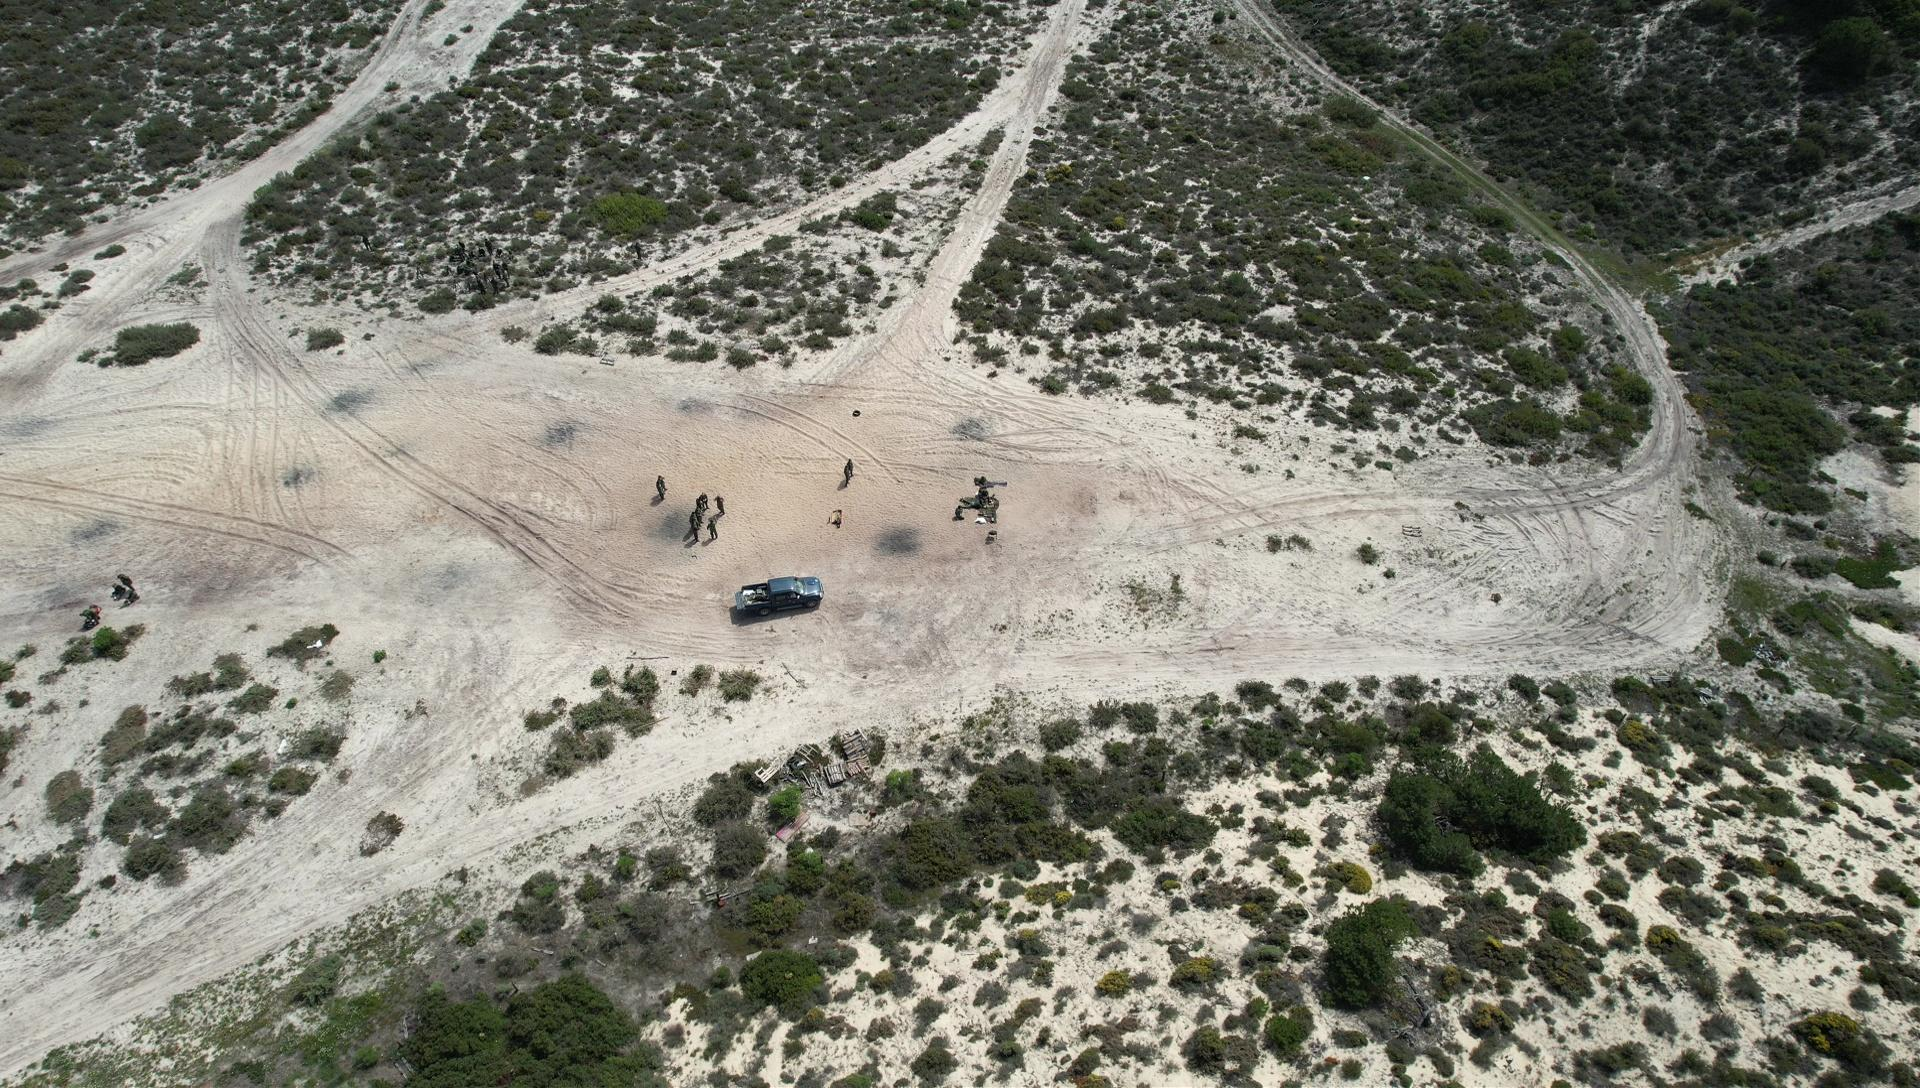Soldier: (647, 477, 679, 510), (963, 493, 998, 512), (684, 499, 705, 525), (843, 460, 856, 487), (705, 520, 719, 543), (690, 510, 703, 534), (713, 495, 728, 516), (953, 505, 964, 525)
